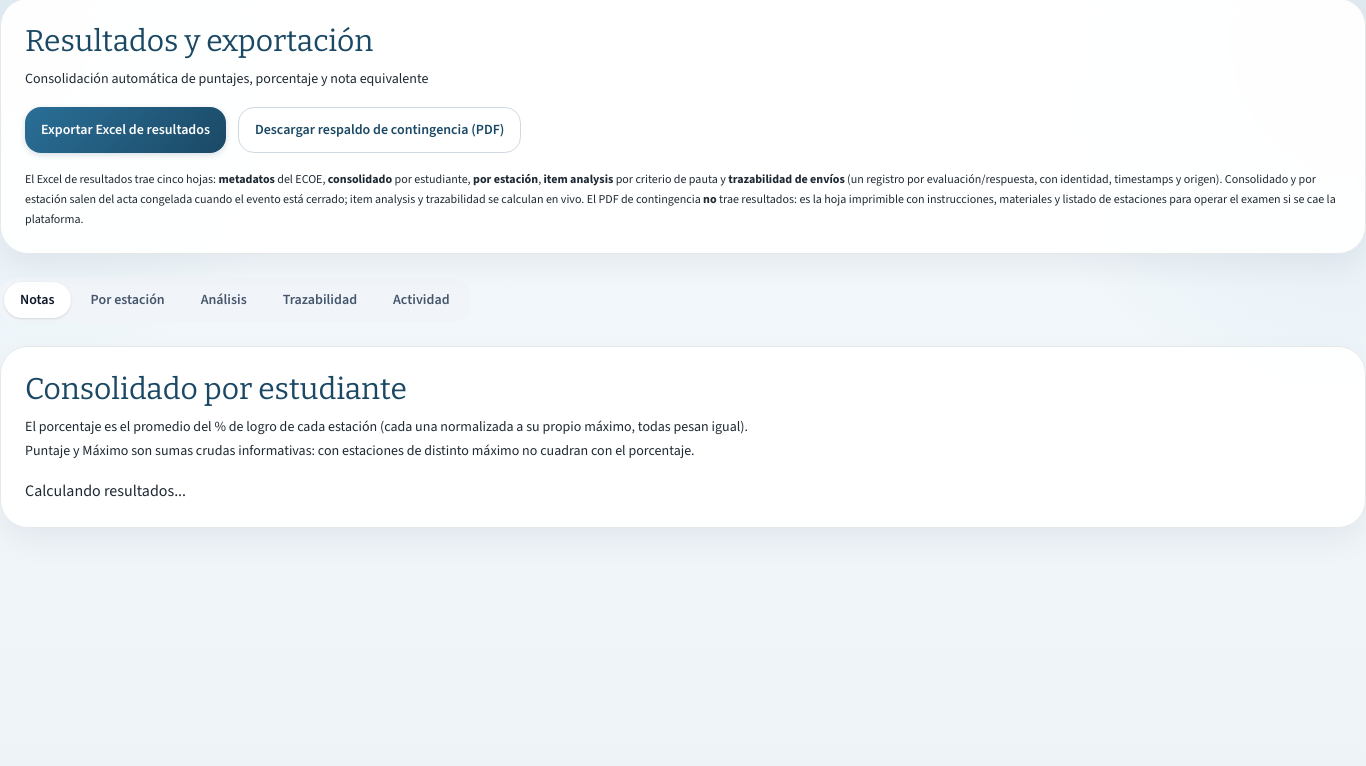
ResultsPage — análisis de respuestas OPT-18 › renderiza α de Cronbach y la tabla por estación desde psychometrics
The width and height of the screenshot is (1366, 766).
Click the tab "Análisis".
click(224, 300)  # box 185,282 -> 263,318
(page scrolled)
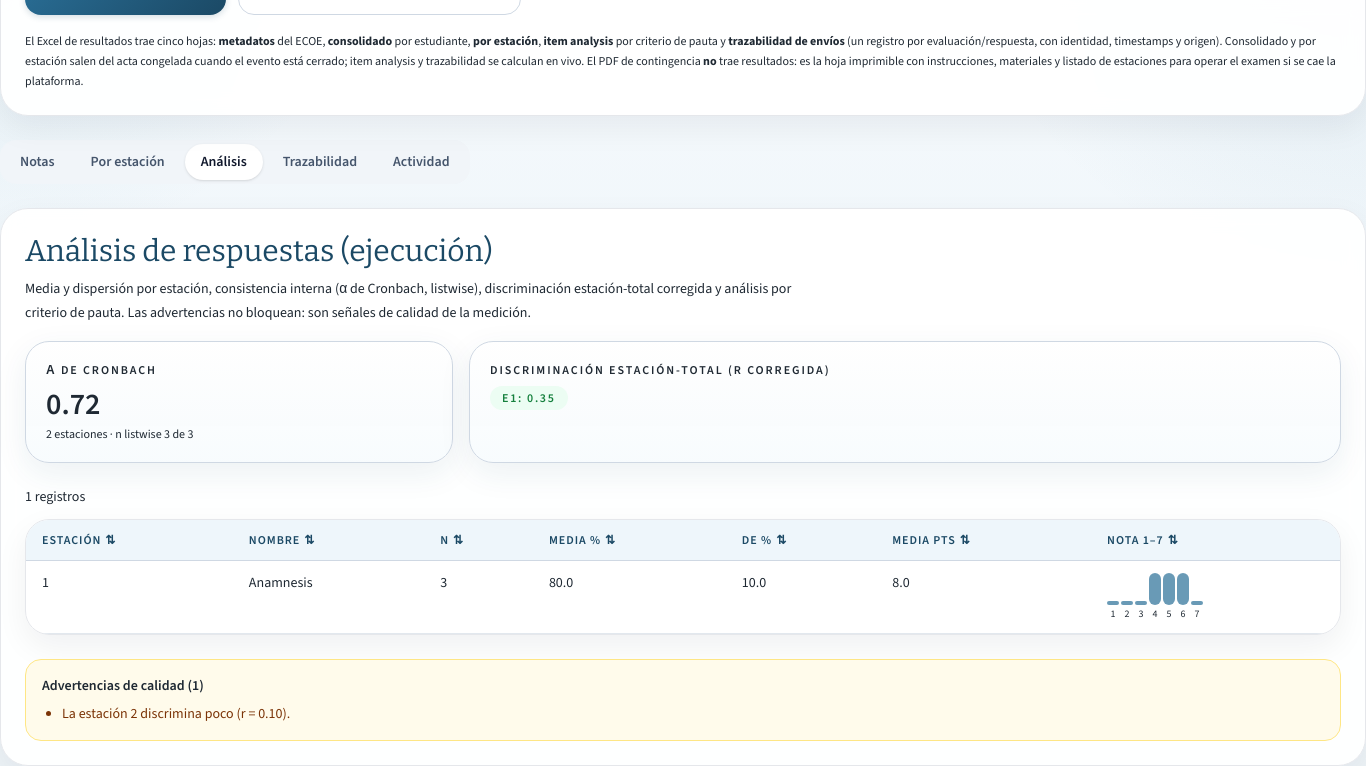
Now the heading "Análisis de respuestas (ejecución)" is shown, box 25,233 -> 493,269
Now the text "0.72" is shown, box 46,384 -> 100,424
Now the list item "La estación 2 discrimina poco (r = 0.10)." is shown, box 62,704 -> 290,723
